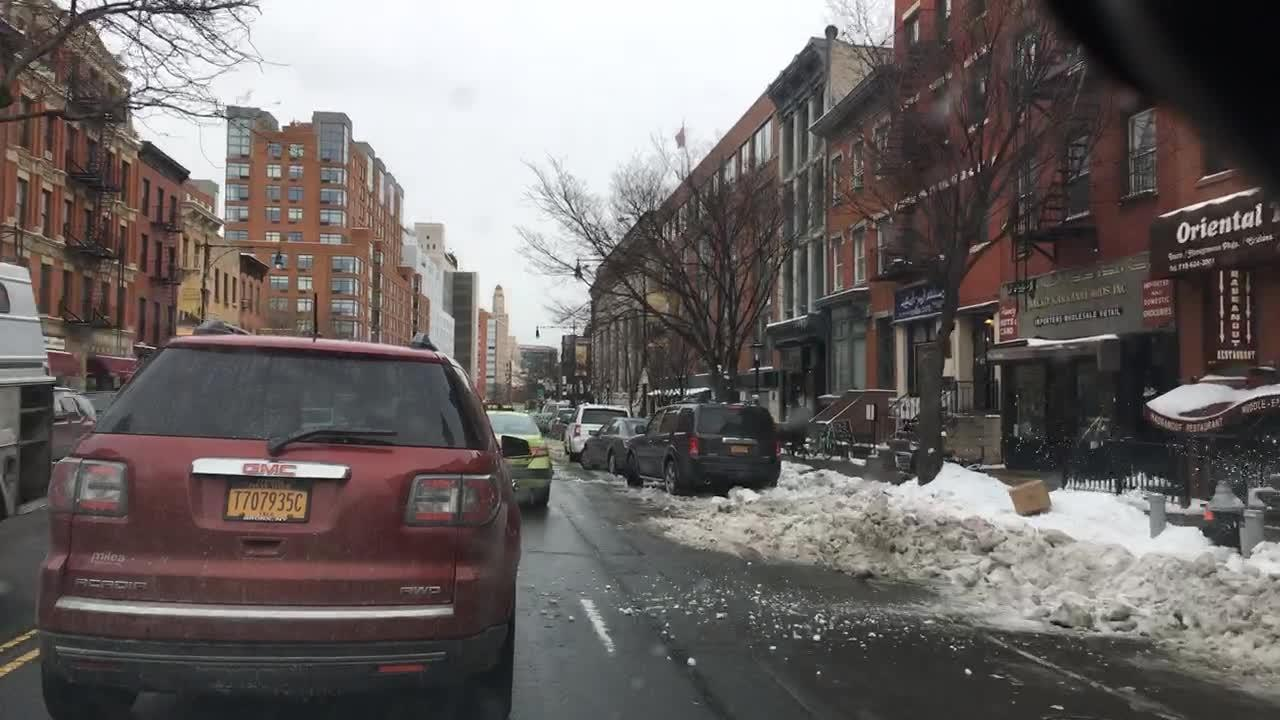GMC: (230, 453, 304, 488)
